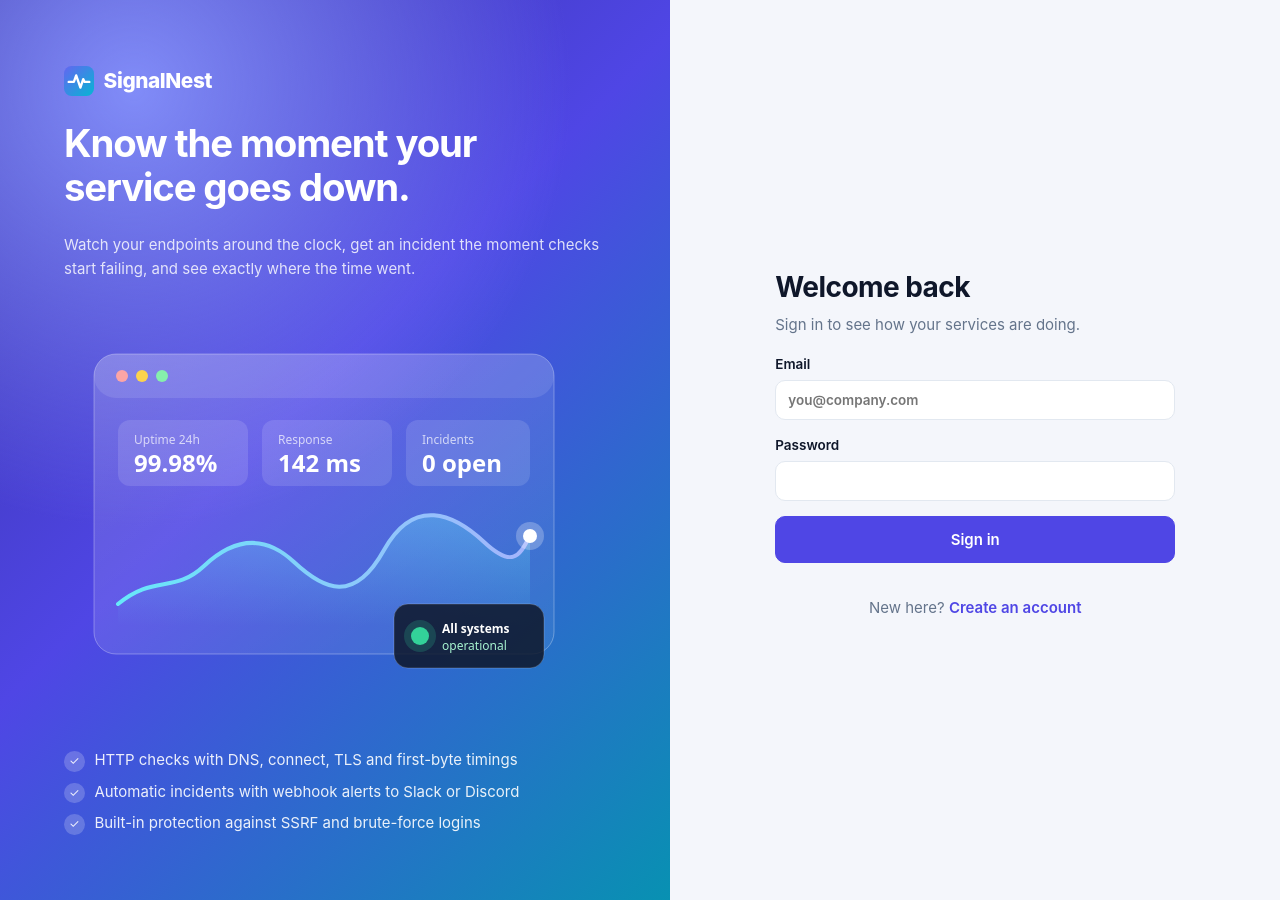
fixes found by reading and measuring the app › ignores a wanted page that is not a same-site path
Type "a@example.com" into the field labelled "Email". click: (975, 400)
box: [775,380,1175,420]
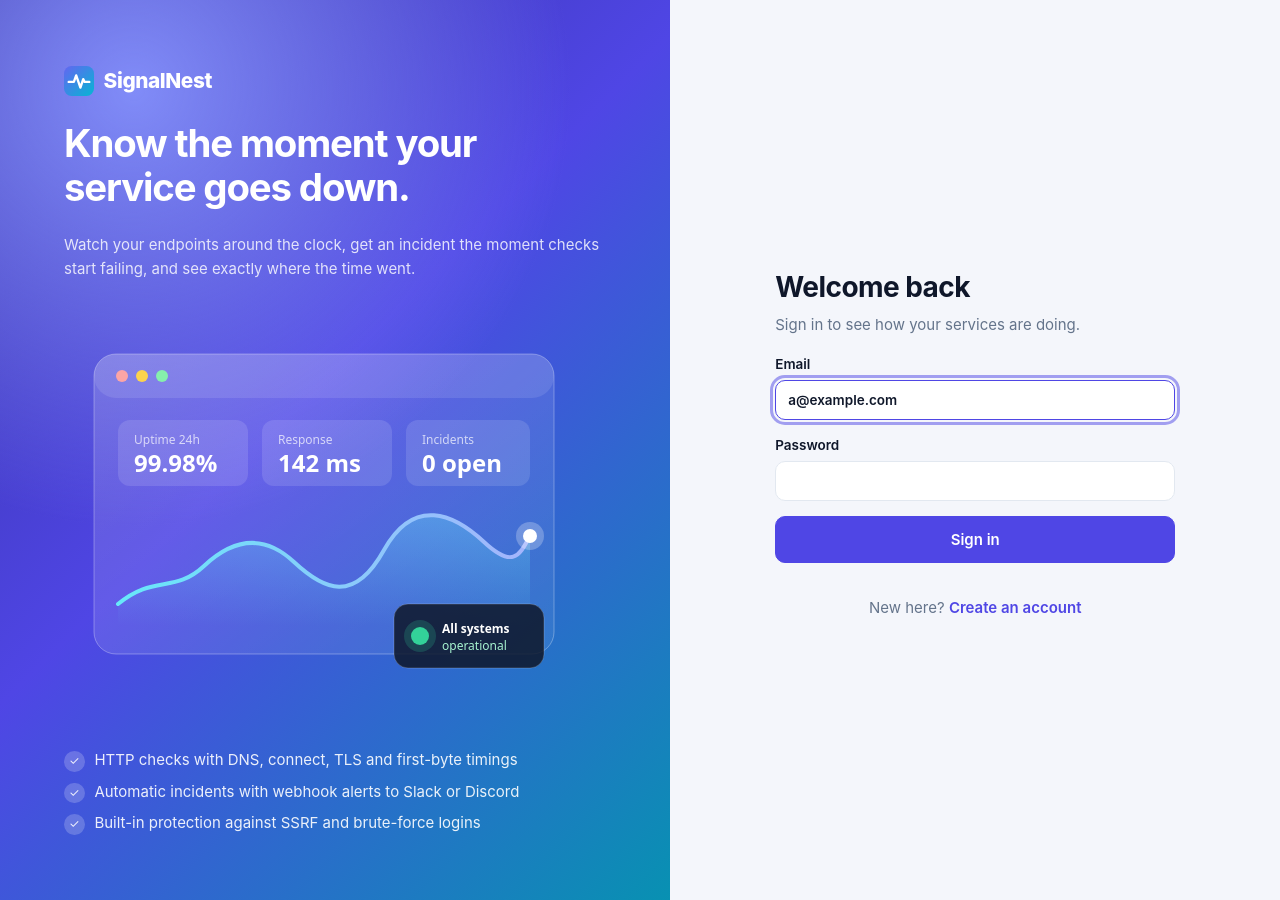
Type "correct-horse-battery" into the password field labelled "Password". click: (975, 481)
box: [775,461,1175,501]
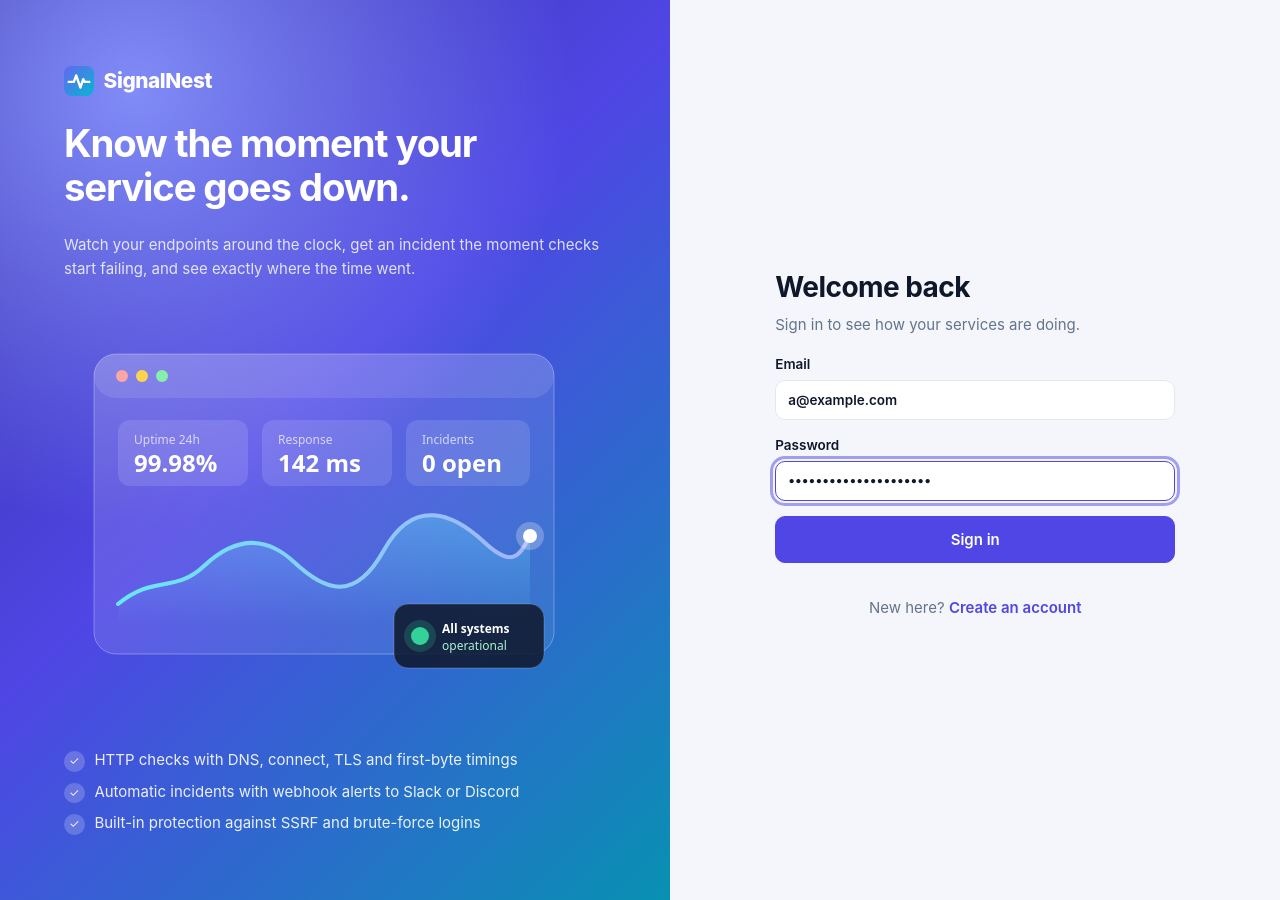
Click the button "Sign in". click: (975, 539)
box: [775,516,1175,563]
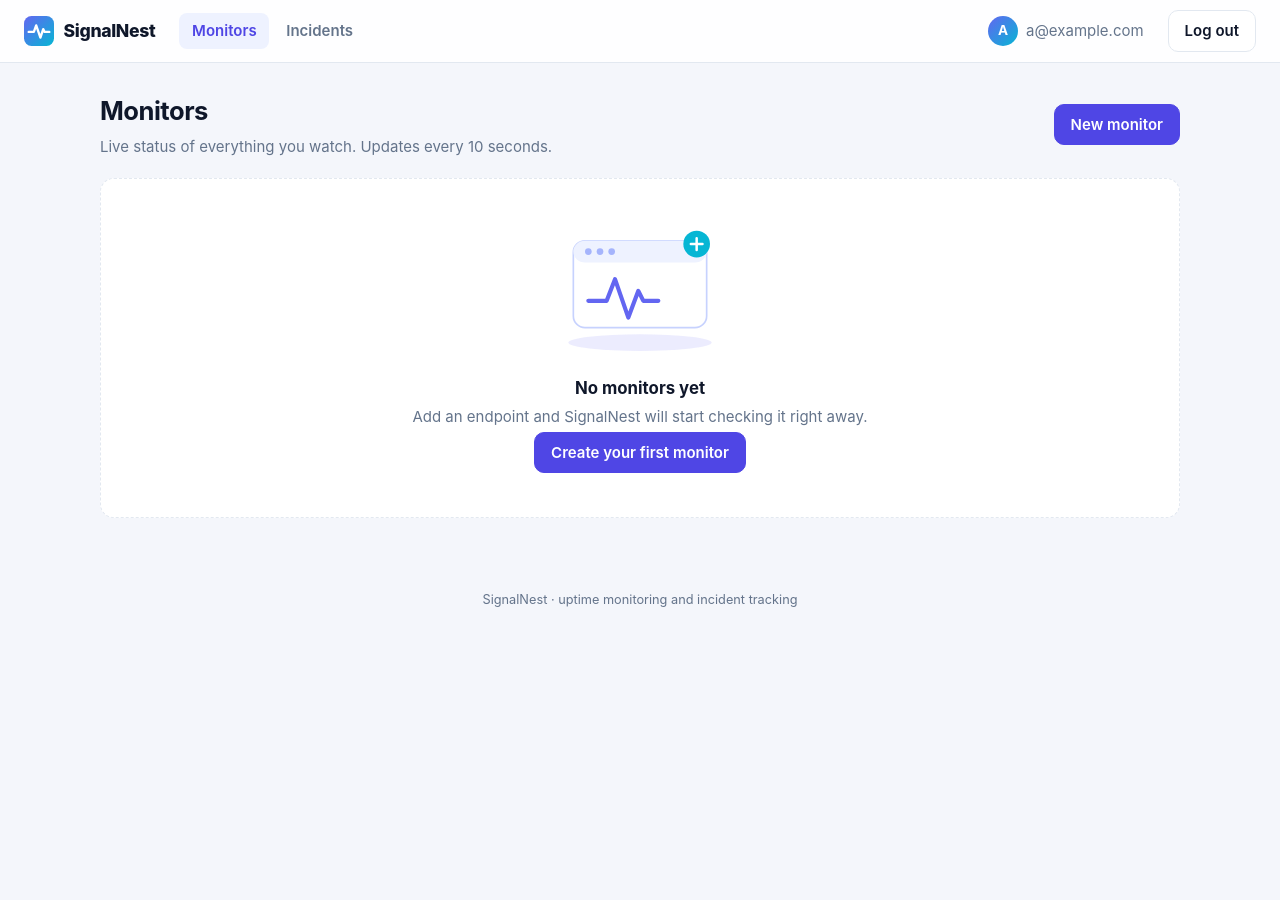
Expected: the heading "Monitors" is shown, [100,95,208,126]
